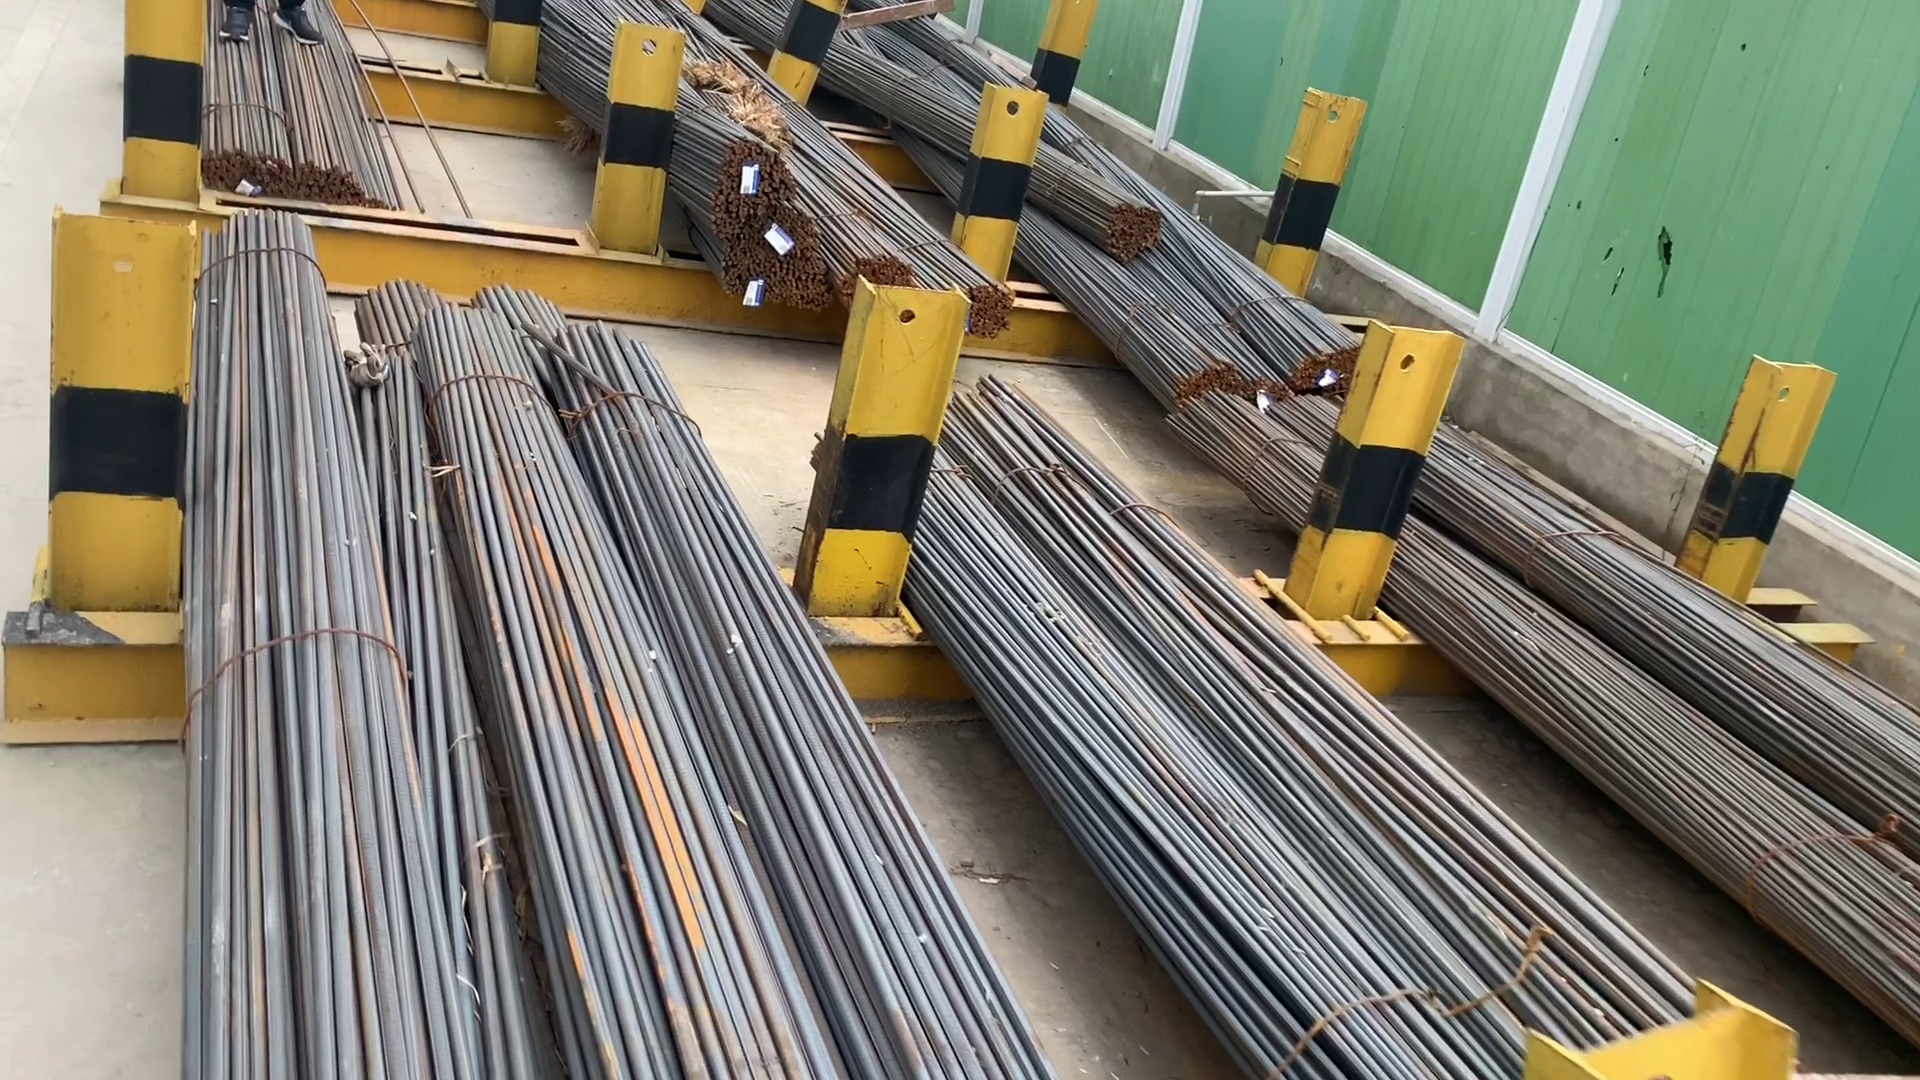rebar: (723, 229, 824, 311), (703, 141, 796, 223), (1166, 342, 1276, 406), (1284, 327, 1364, 392), (196, 146, 293, 198), (839, 247, 913, 298), (301, 160, 381, 204), (1102, 196, 1156, 256), (967, 284, 1007, 342)
